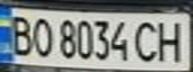0: (75, 17, 93, 61)
3: (90, 17, 112, 62)
4: (109, 17, 133, 63)
8: (54, 16, 78, 60)
B: (3, 11, 36, 57)
C: (130, 18, 163, 63)
H: (154, 17, 190, 63)
O: (30, 14, 57, 58)
